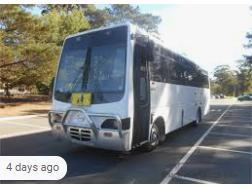bus: (50, 21, 212, 154)
